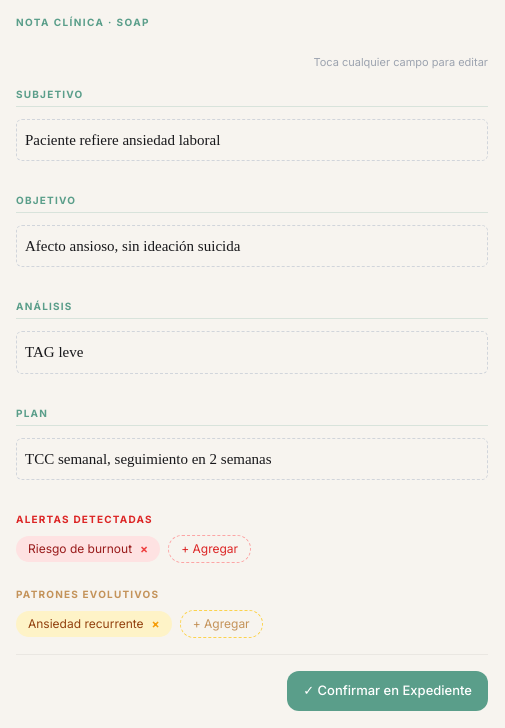
Test: SoapNoteDocument › muestra "Registrando..." durante el proceso de confirmación
Click the button "✓ Confirmar en Expediente" at (388, 691), box [287,671,488,710]
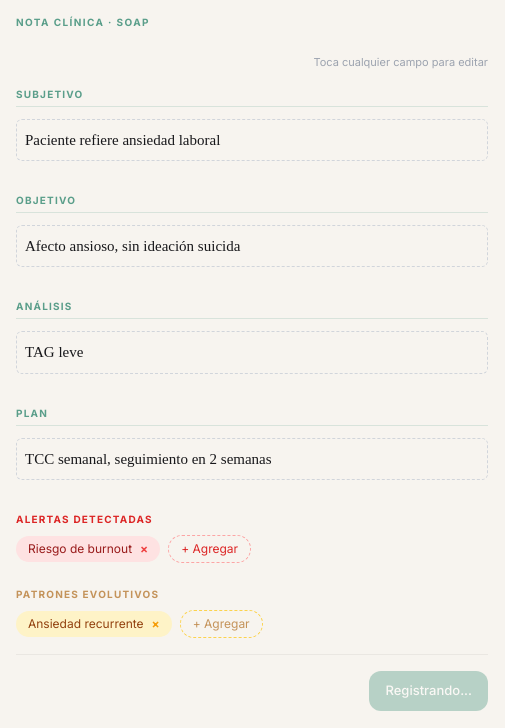
Result: the button "Registrando..." is shown at [370,671,488,710]
